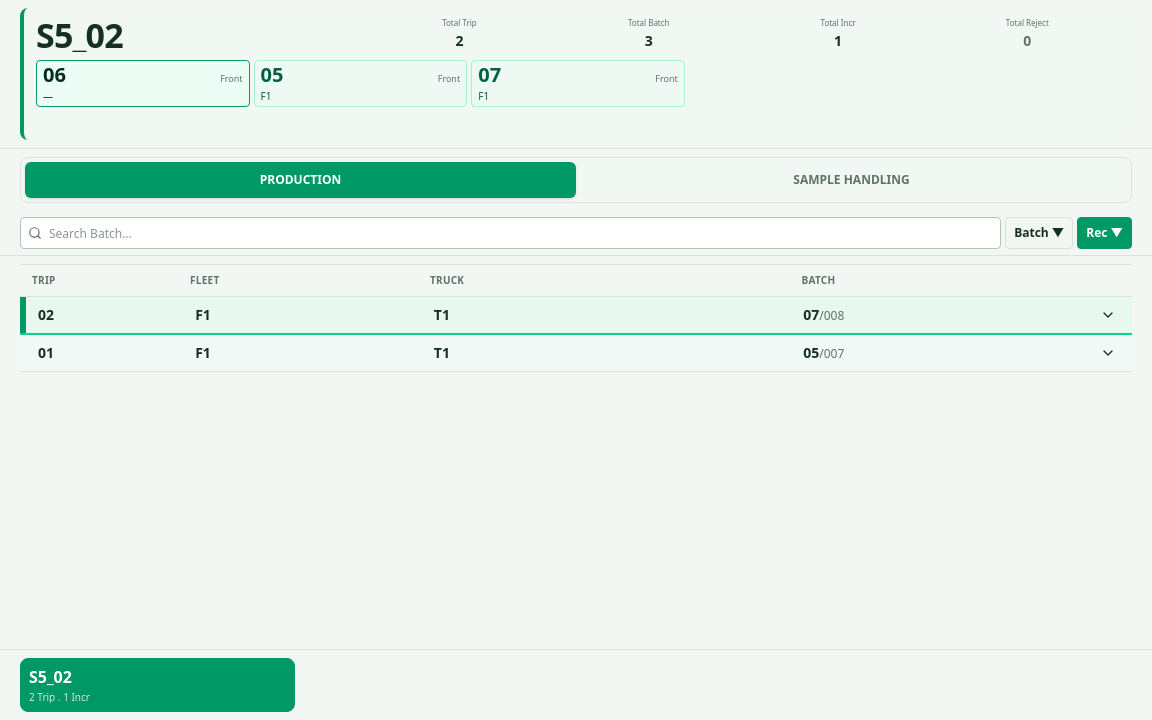
ProductionPage Record workspace › filters accepted history by Batch above the table and removes bottom Pile search
In the field labelled "Search Batch": (511, 233) 20,217 -> 1001,249, type "05"
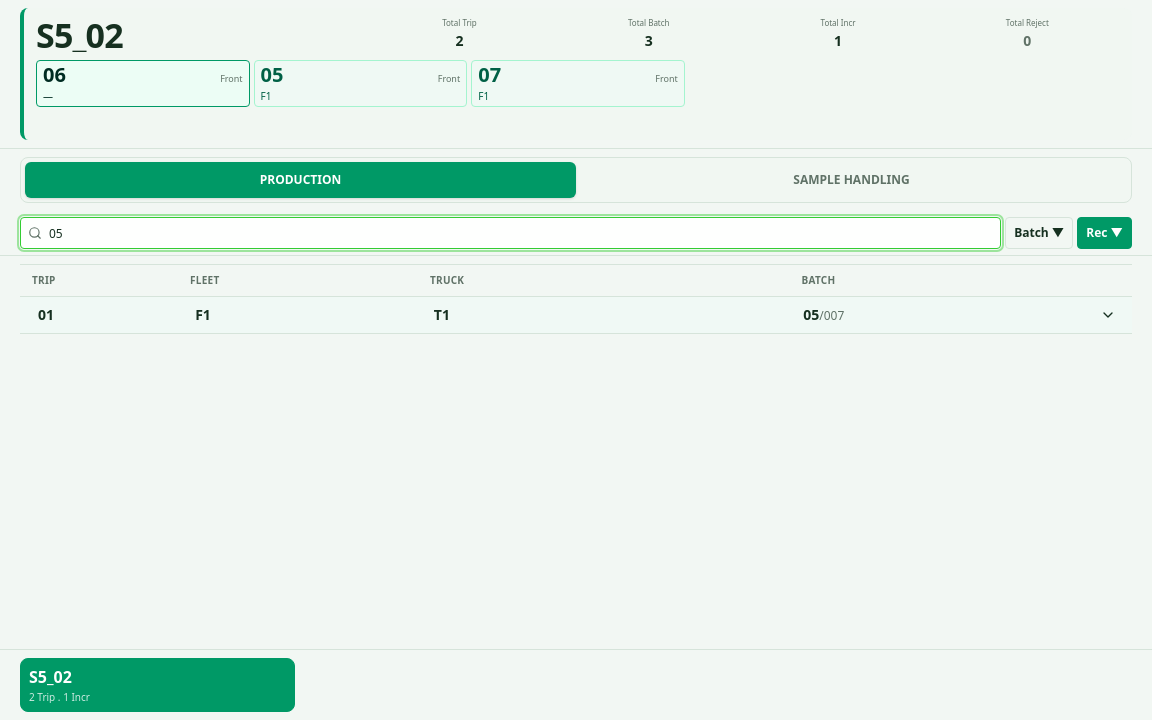
Expected: the button "01 F1 T1 05/007" is shown, 20,297 -> 1132,333
Expected: the button "02 F1 T1 07/008" is gone
Clear the field named "Search Batch": (511, 233) 20,217 -> 1001,249
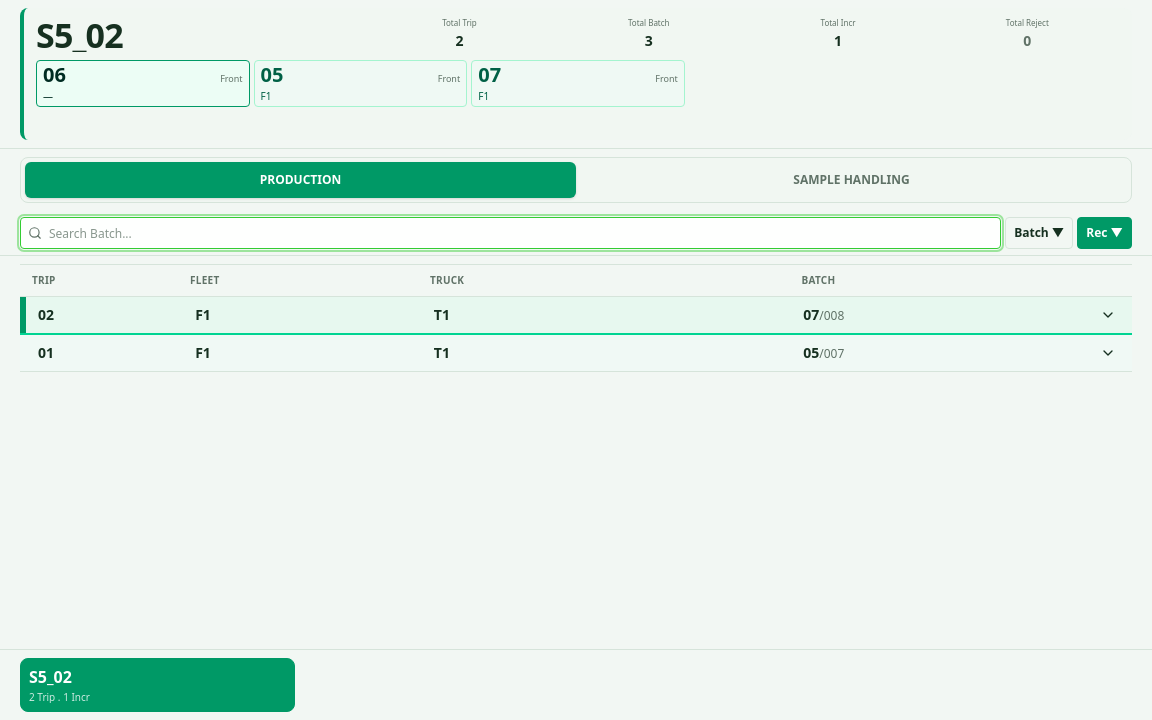
Expected: the button "02 F1 T1 07/008" is shown, 20,297 -> 1132,333
